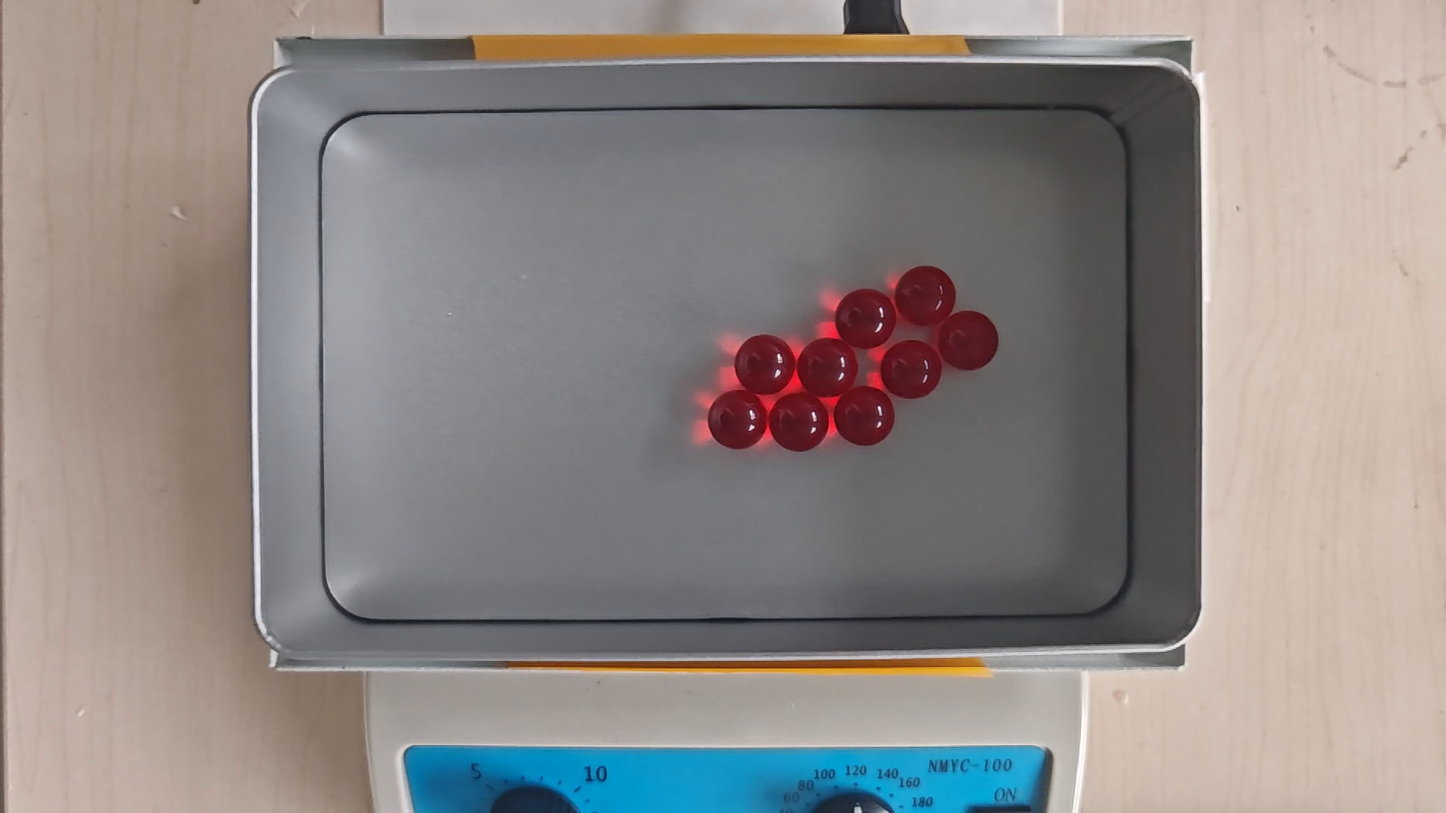ball: (835, 387, 896, 448), (735, 334, 795, 396), (895, 265, 955, 326), (939, 310, 999, 371), (708, 390, 768, 451), (882, 340, 941, 400), (799, 338, 858, 397), (770, 393, 829, 452), (837, 288, 896, 347)
container: (321, 108, 1129, 620)
